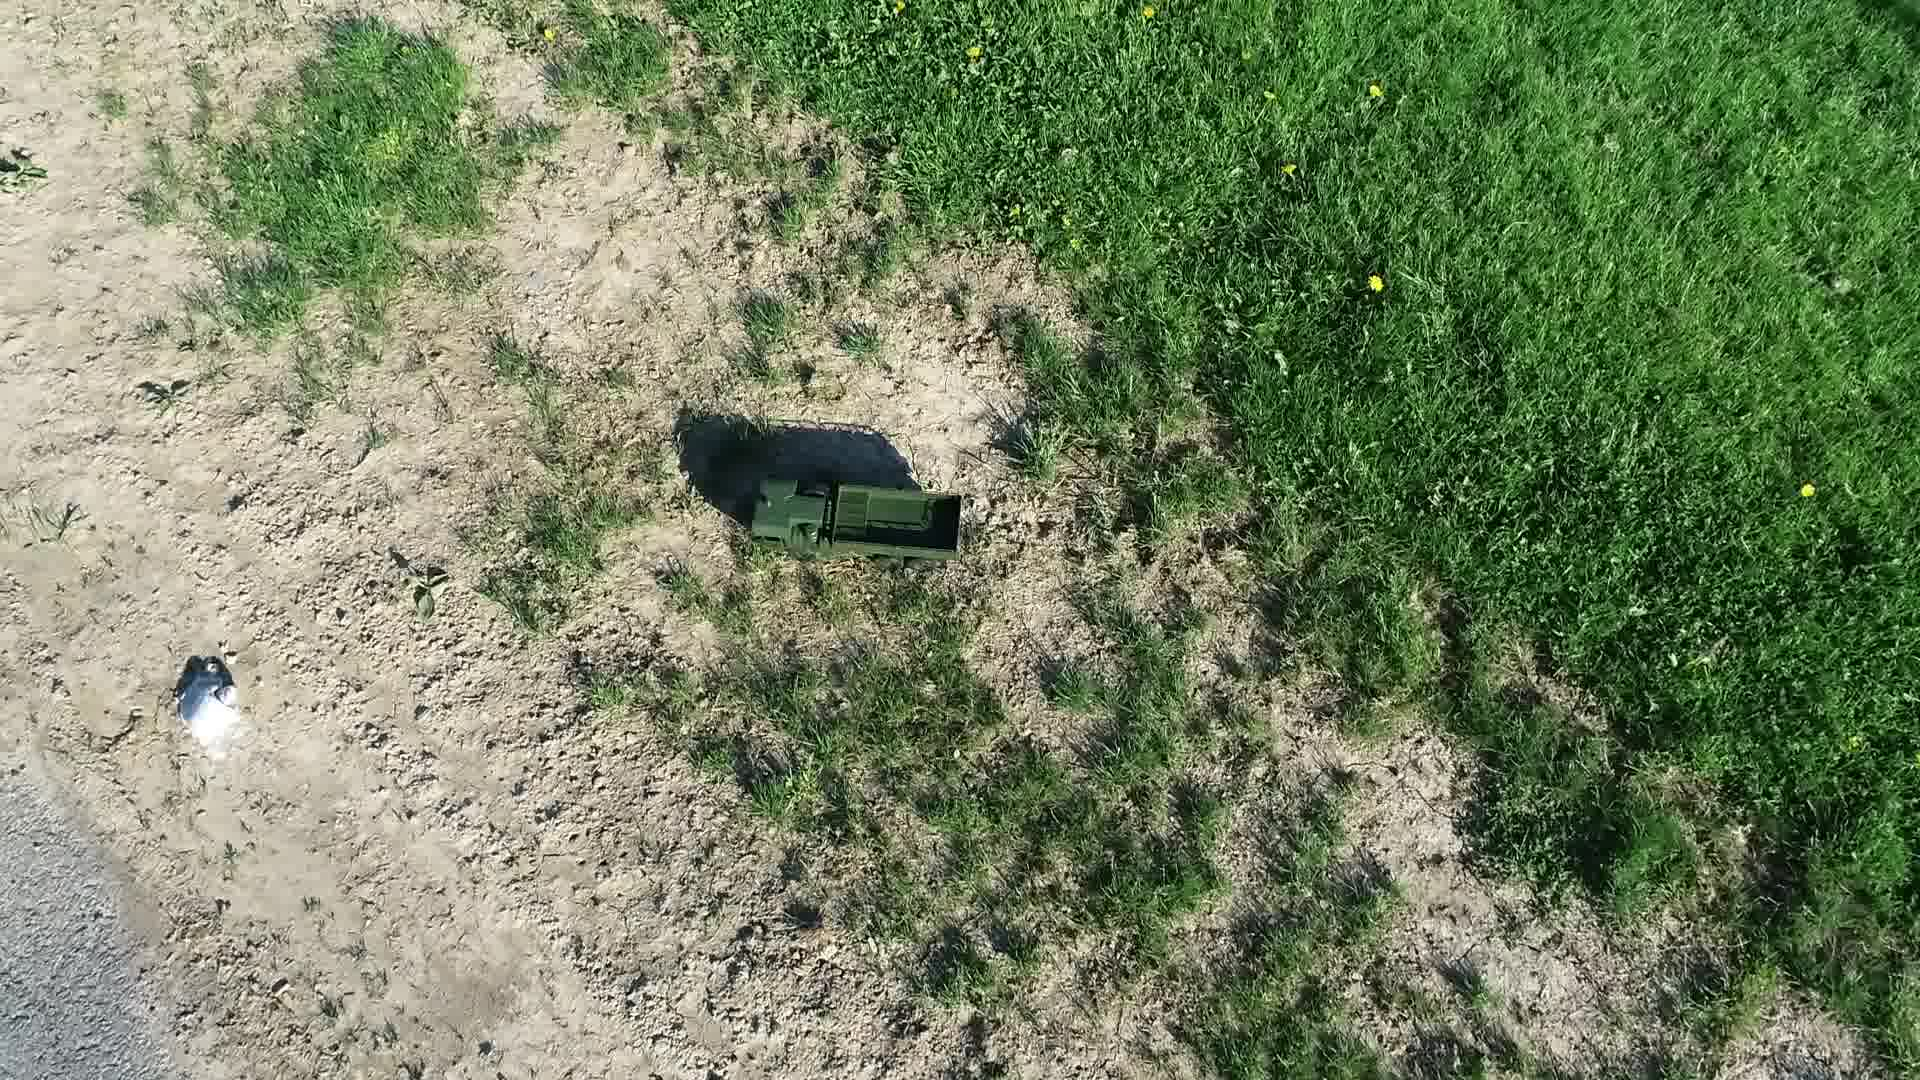transporter9: (729, 458, 978, 576)
